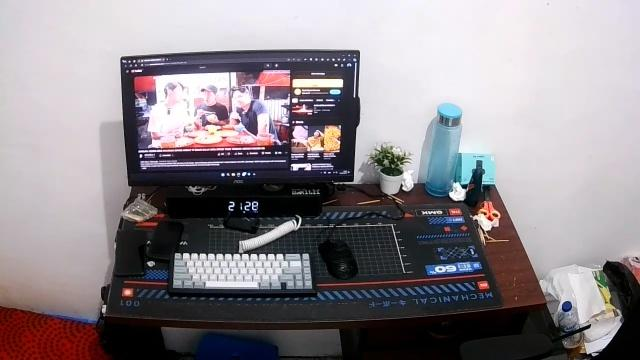AIO PC-Monitor-TV: (120, 48, 360, 180)
Meja: (103, 176, 547, 359)
